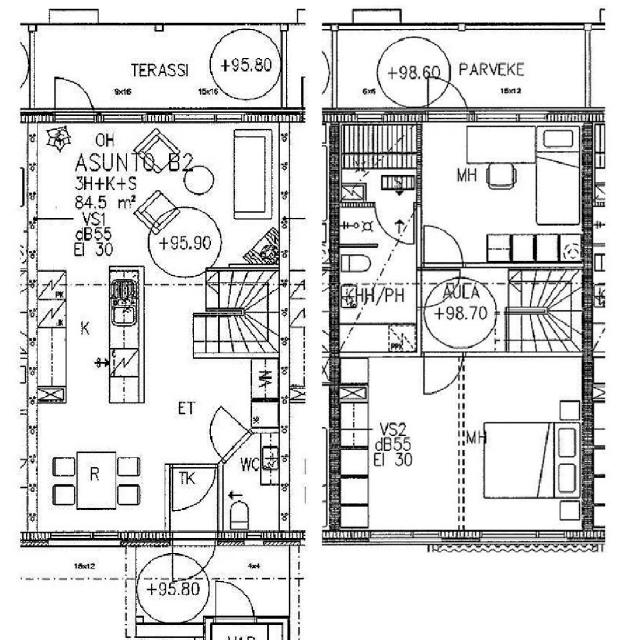door: (199, 405, 251, 462), (172, 532, 216, 594), (427, 63, 467, 122), (54, 65, 93, 122), (172, 463, 215, 514), (215, 572, 254, 623), (424, 352, 463, 398), (424, 220, 462, 266), (375, 202, 413, 247), (417, 270, 454, 306)
